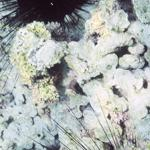dead: (1, 8, 147, 147)
